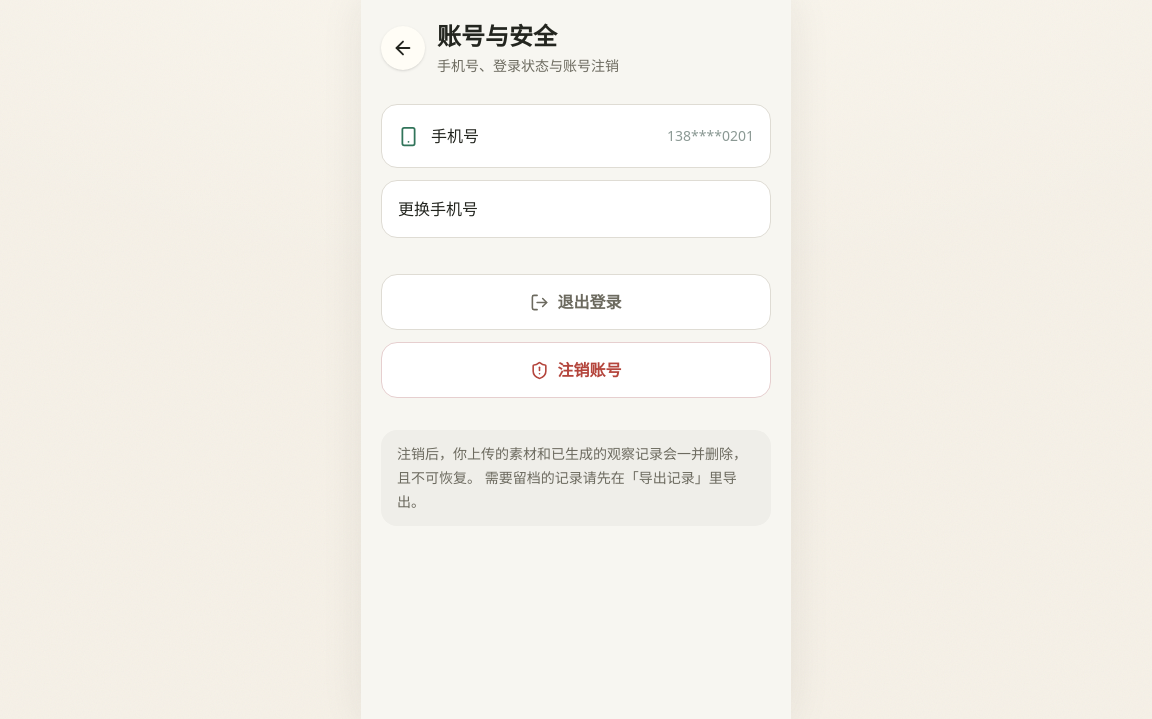
AccountPage › shows send confirmation and a cooldown after requesting a change-phone code
The width and height of the screenshot is (1152, 719).
Click the button "更换手机号" at (438, 209), box x1=381 y1=180 x2=771 y2=238
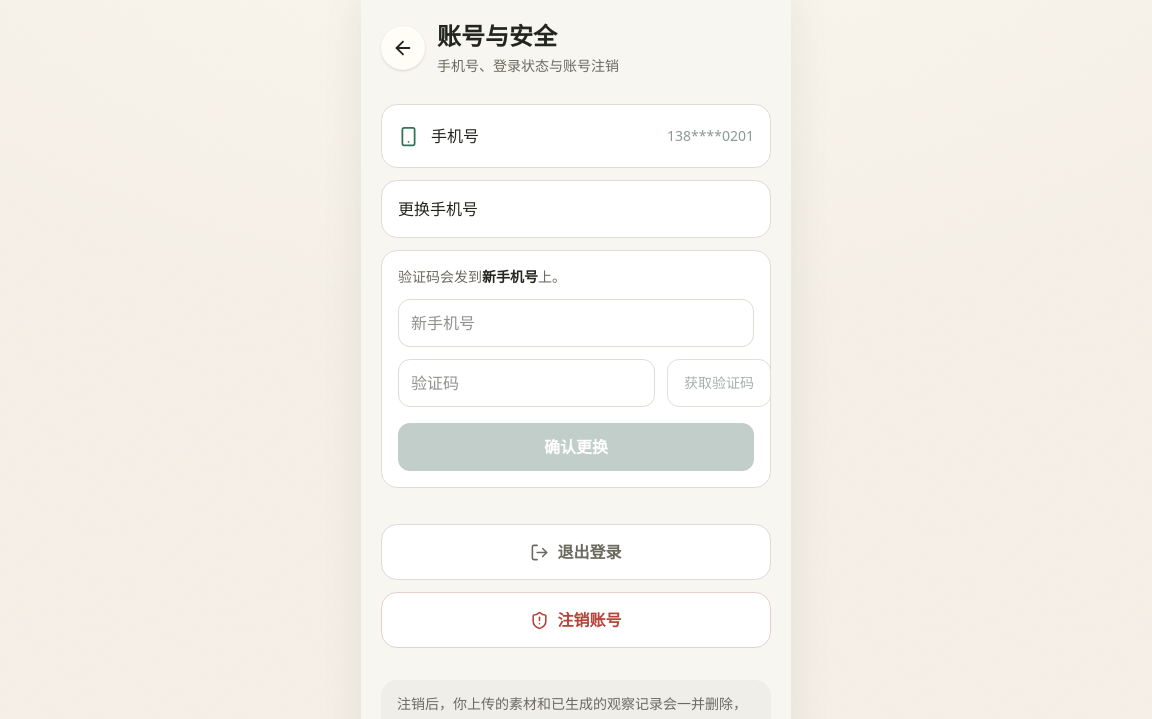
Type "13800000202" into the field with placeholder "新手机号" at (576, 323), box x1=398 y1=299 x2=754 y2=347
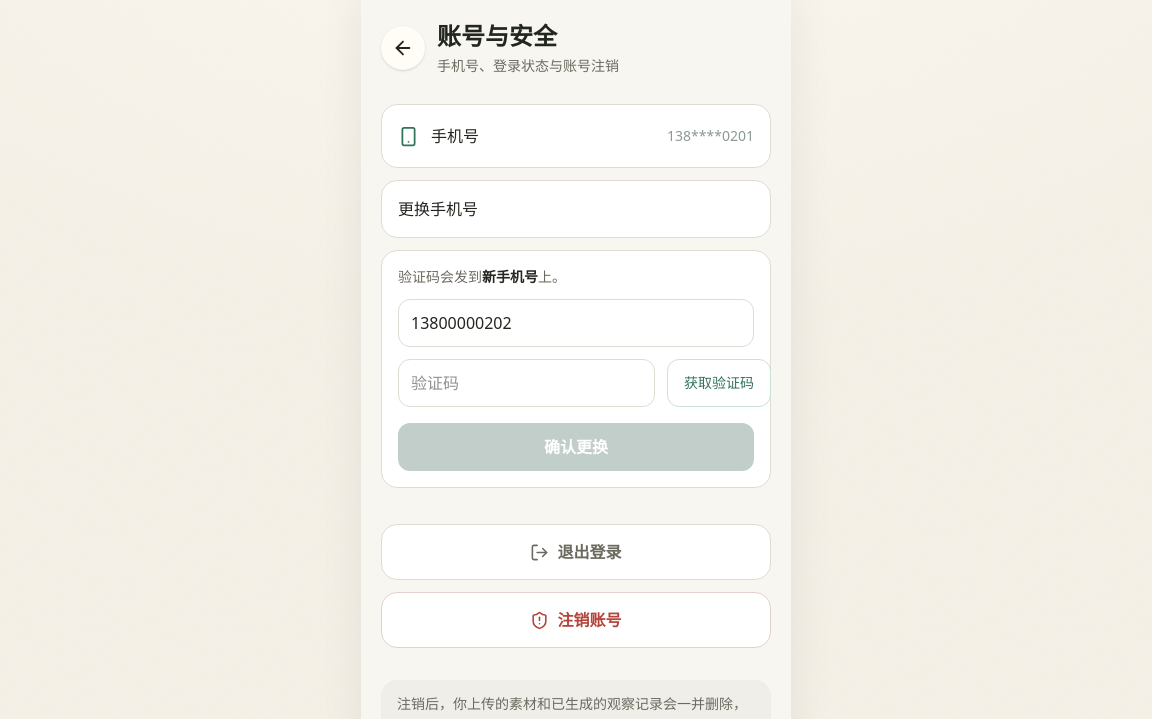
Click the button "获取验证码" at (719, 383), box x1=667 y1=359 x2=771 y2=407
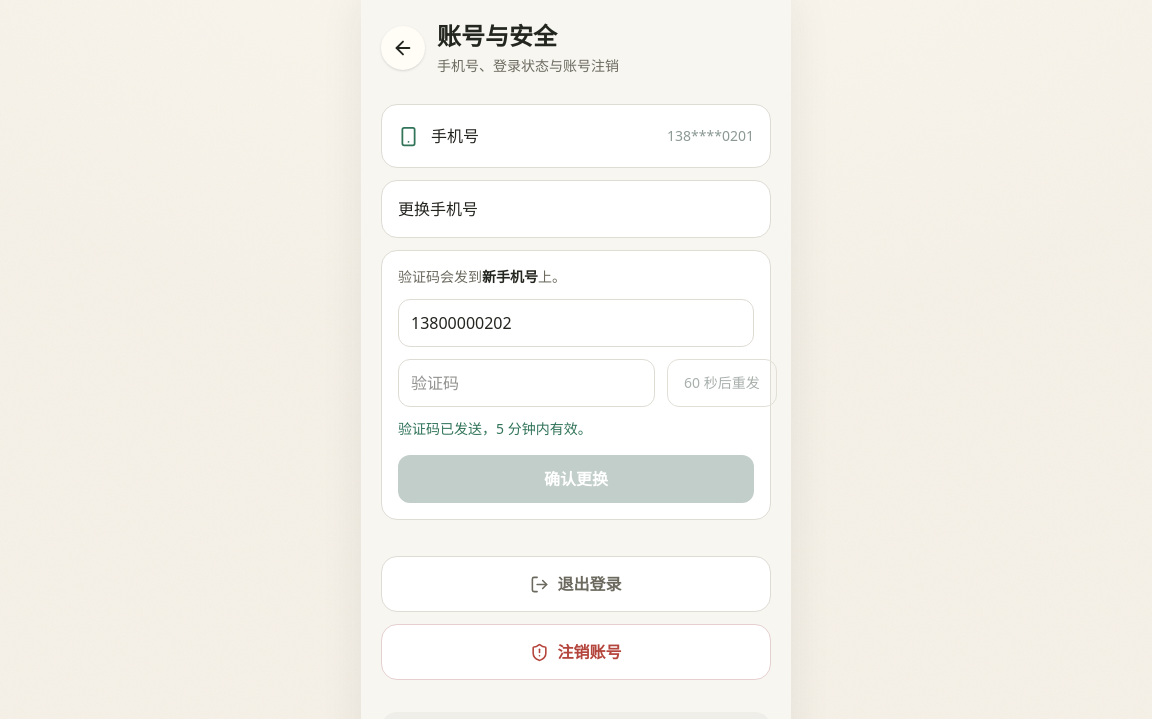
Expected: the button "60 秒后重发" is disabled, x1=667 y1=359 x2=777 y2=407
Expected: the message reads "验证码已发送，5 分钟内有效。", x1=398 y1=419 x2=592 y2=438
